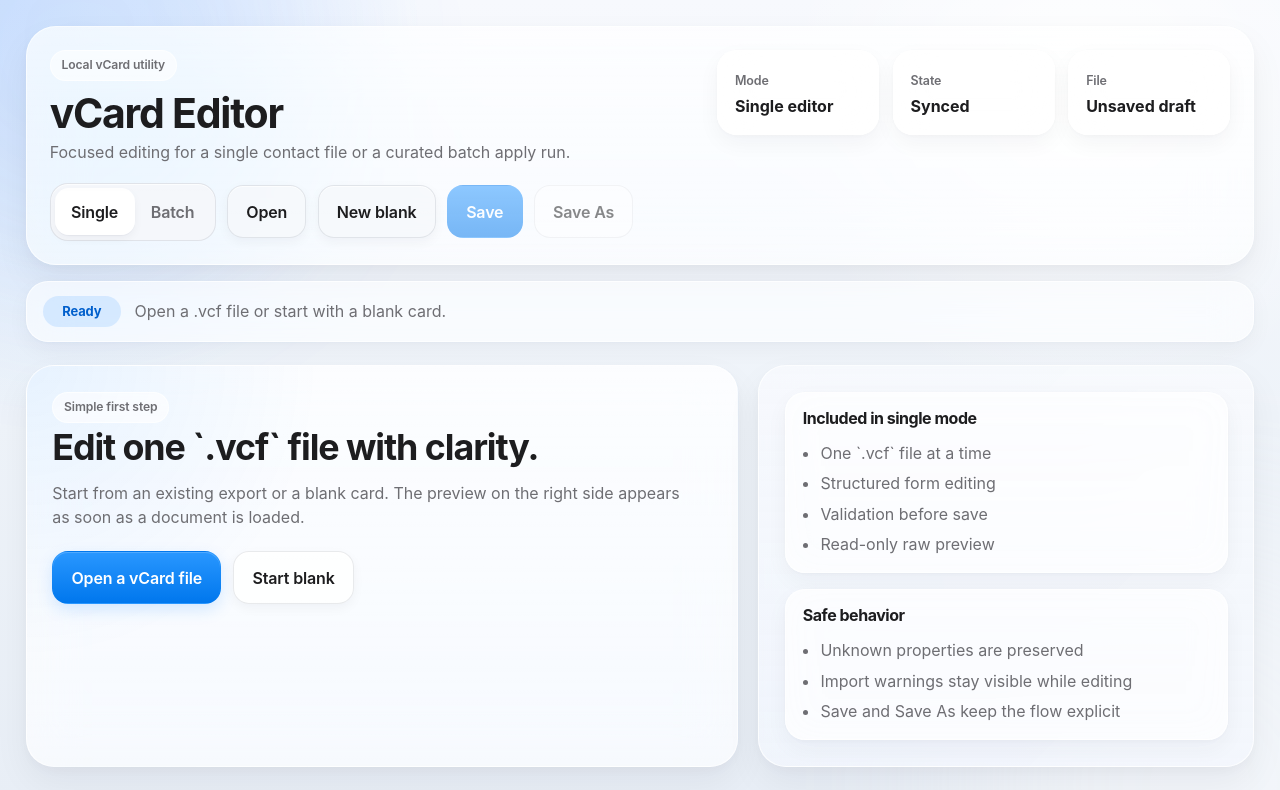
Test: App › opens a selected vCard file and populates the editor
Click the button "Open a vCard file".
click(137, 578)  # box [52, 551, 221, 604]
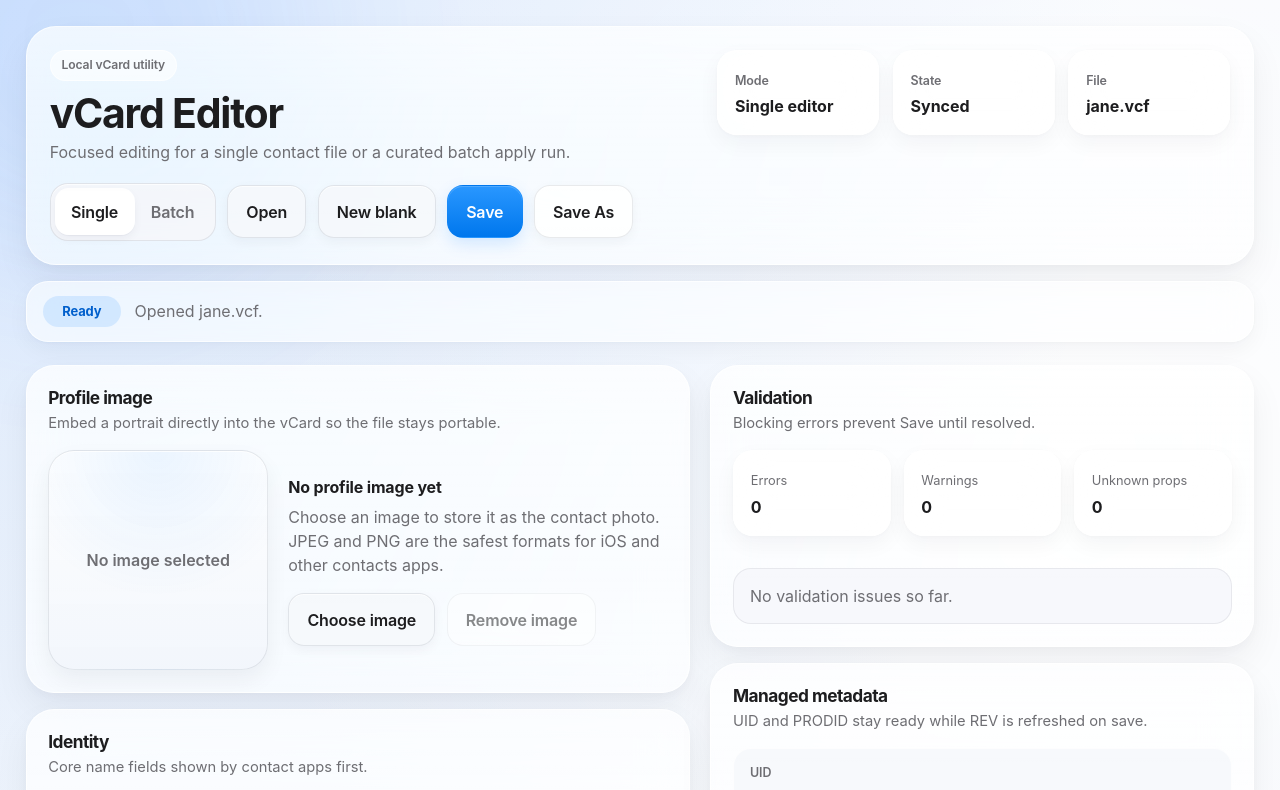
Expected: the text "Opened jane.vcf." is shown, [135, 299, 263, 323]
